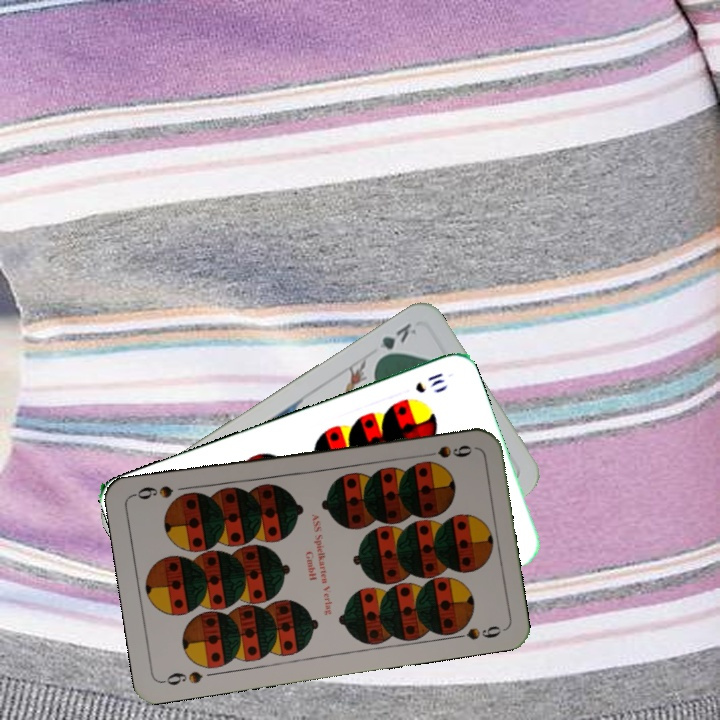GK: (372, 318, 420, 364)
S10: (411, 368, 447, 396)
S9: (417, 440, 474, 461), (158, 667, 205, 688)
